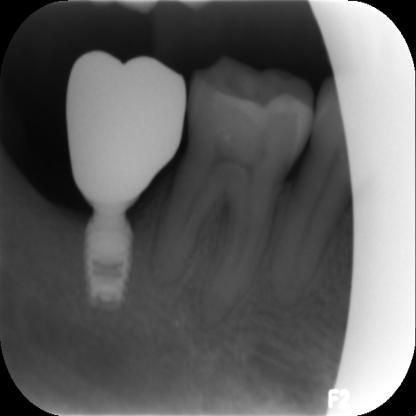Bicon: (76, 208, 139, 311)
